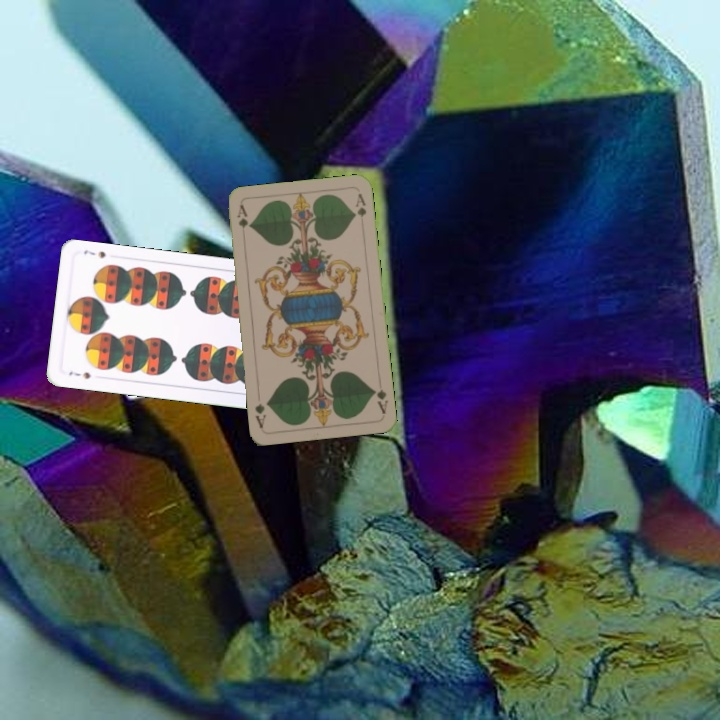GA: (233, 201, 250, 242), (369, 385, 390, 417)
S7: (65, 367, 93, 382)
